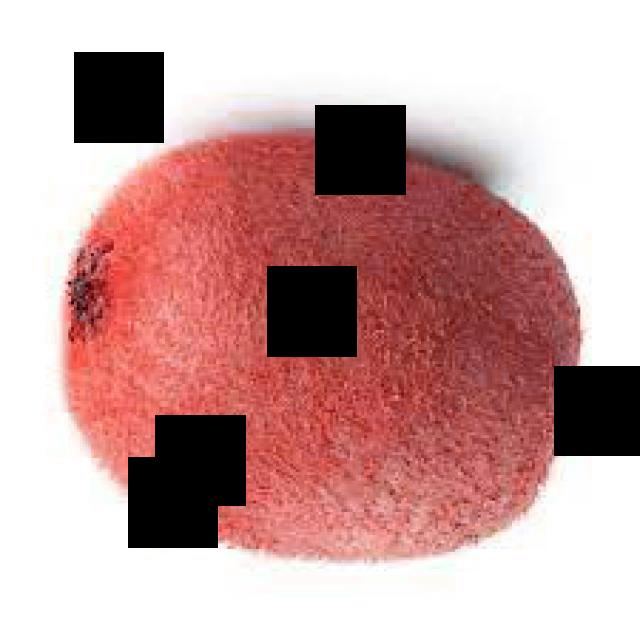kiwi: (58, 135, 579, 573)
